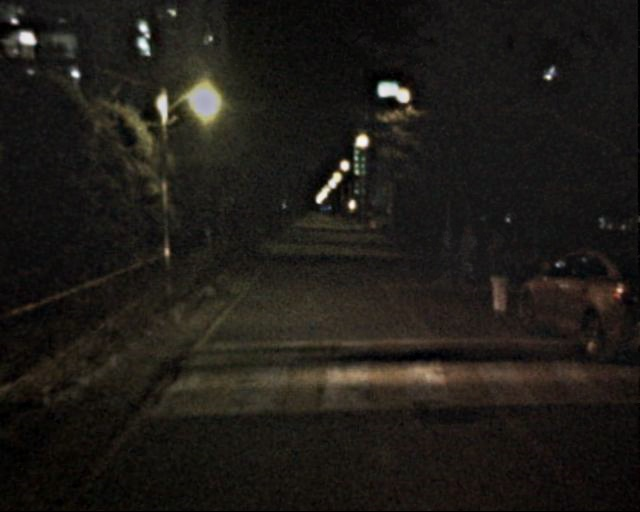person: (479, 226, 518, 320), (454, 221, 487, 295), (433, 227, 465, 292)
